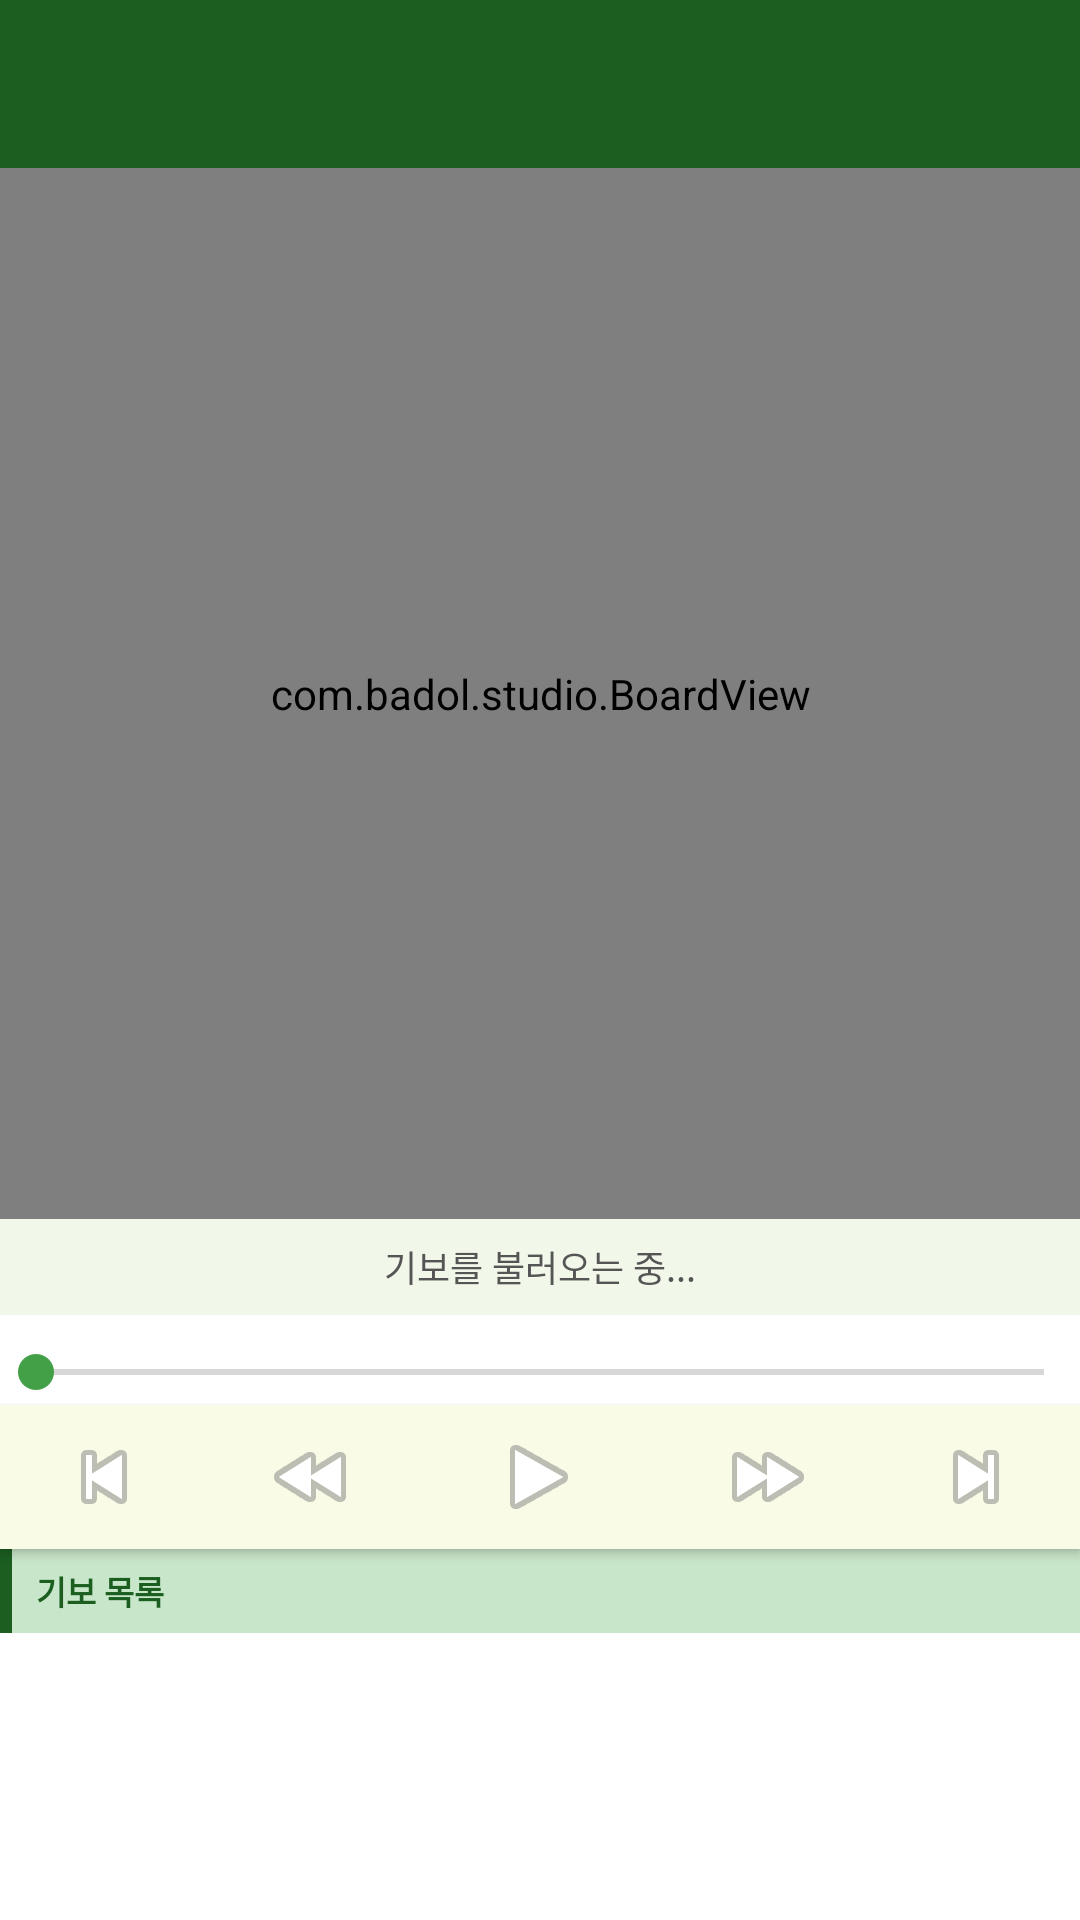

Where icons sit on this 1080px x 1920px app screen, as {"left": x1, "top": y1, "right": x2, "bottom": y2}:
다음: {"left": 732, "top": 1452, "right": 804, "bottom": 1502}
이전: {"left": 274, "top": 1452, "right": 346, "bottom": 1502}
재생: {"left": 510, "top": 1445, "right": 568, "bottom": 1509}
처음: {"left": 81, "top": 1450, "right": 127, "bottom": 1504}
